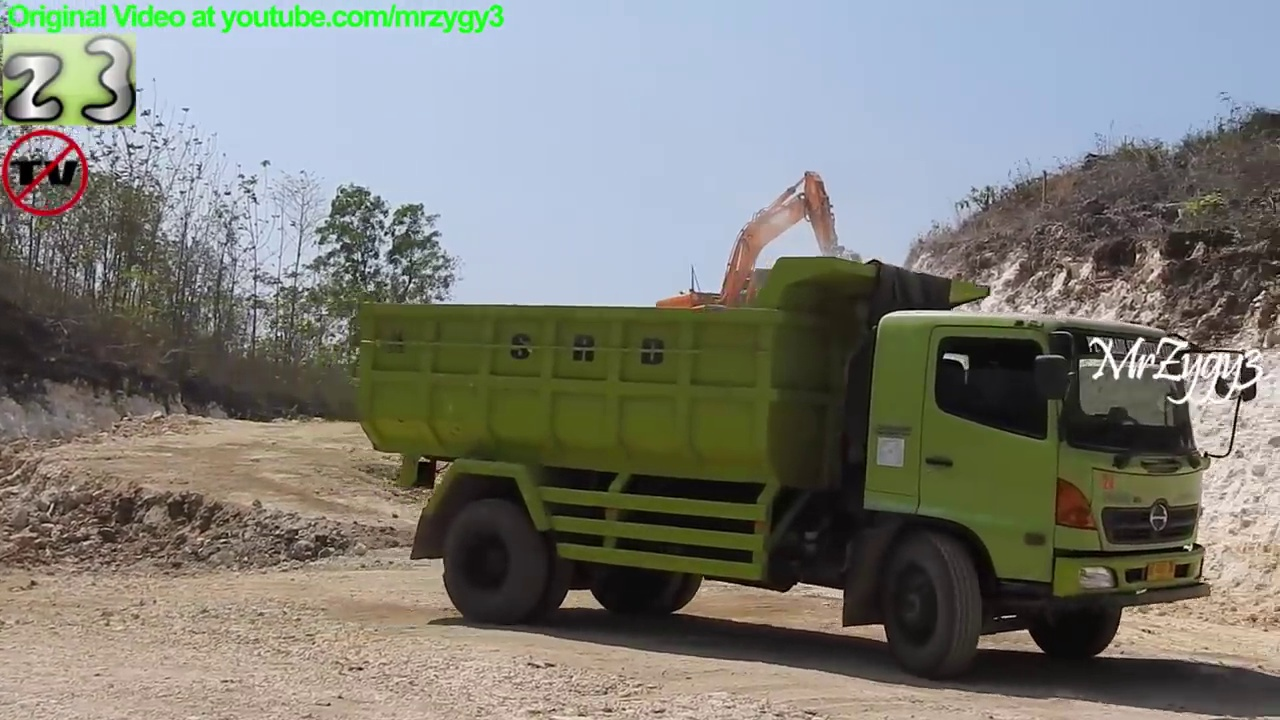excavator: (634, 164, 877, 374)
truck: (344, 251, 1265, 689)
